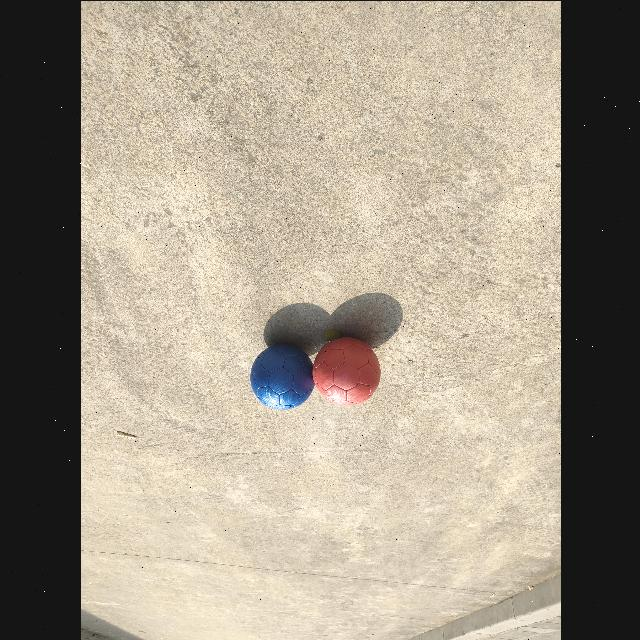B: (249, 343, 313, 410)
R: (312, 336, 379, 405)
